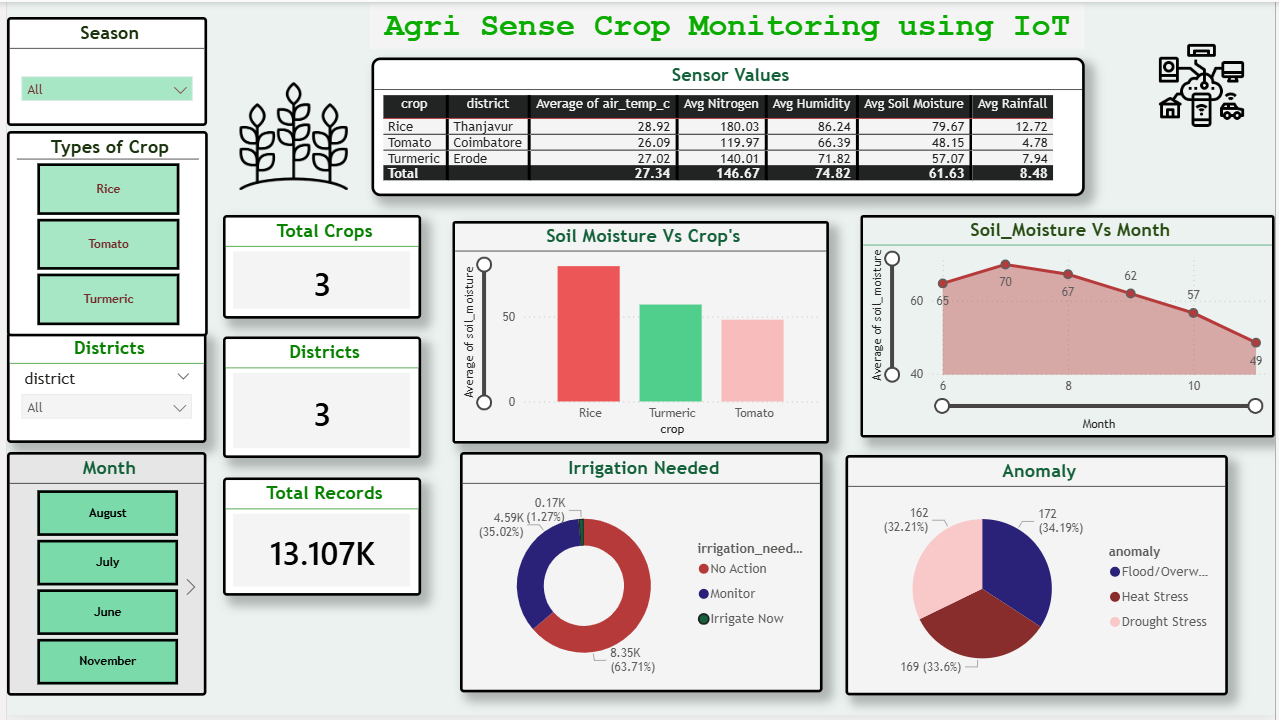

This screenshot's page, from the dashboard's own definition file:
{"tool":"powerbi","page":{"name":"Page 1","canvas":[1280,720],"ordinal":0},"visuals":[{"type":"lineChart","title":"Soil_Moisture Vs Month","fields":{"Y":["Avg(agrisense_sensor_data.soil_moisture)"],"Category":["agrisense_sensor_data.Month"]},"box":[861.2,215.3,418.3,224.5],"z":0},{"type":"clusteredColumnChart","title":"Soil Moisture Vs Crop''s","fields":{"Category":["agrisense_sensor_data.crop"],"Y":["Avg(agrisense_sensor_data.soil_moisture)"]},"box":[449.1,221.5,379.9,224.5],"z":1000},{"type":"donutChart","title":"Irrigation Needed","fields":{"Category":["agrisense_sensor_data.irrigation_needed"],"Y":["CountNonNull(agrisense_sensor_data.irrigation_needed)"]},"box":[456.7,453.7,366,243],"z":2000},{"type":"actionButton","box":[0,18.2,99.9,39.4],"z":3000},{"type":"cardVisual","title":"Total Records","fields":{"Data":["CountNonNull(agrisense_sensor_data.timestamp)"]},"box":[218.4,476.7,199.9,120],"z":4000},{"type":"slicer","title":"Districts","fields":{"Values":["agrisense_sensor_data.district"]},"box":[0,333.7,201.5,112.3],"z":5000},{"type":"slicer","title":"Types of Crop","fields":{"Values":["agrisense_sensor_data.crop"]},"box":[0,125.2,202.3,208.1],"z":6000},{"type":"tableEx","title":"Sensor Values","fields":{"Values":["agrisense_sensor_data.crop","agrisense_sensor_data.district","Avg(agrisense_sensor_data.air_temp_c)","agrisense_sensor_data.Avg Nitrogen","agrisense_sensor_data.Avg Humidity","agrisense_sensor_data.Avg Soil Moisture","agrisense_sensor_data.Avg Rainfall"]},"box":[367.5,55.4,719.7,139.9],"z":7000},{"type":"image","box":[232.2,18.5,109.2,130.7],"z":8000},{"type":"image","box":[1154.1,38.5,104,92.5],"z":9000},{"type":"slicer","title":"Month","fields":{"Values":["agrisense_sensor_data.Month Name"]},"box":[0,453.7,201.5,246.1],"z":10000},{"type":"textbox","box":[366,1.5,721.3,46.1],"z":11000},{"type":"pieChart","title":"Anomaly","fields":{"Category":["agrisense_sensor_data.anomaly"],"Y":["CountNonNull(agrisense_sensor_data.anomaly)"]},"box":[845.8,456.7,386,243],"z":12000},{"type":"slicer","title":"Season","fields":{"Values":["agrisense_sensor_data.Season"]},"box":[0,15.4,202.3,109.8],"z":13000},{"type":"cardVisual","title":"Districts ","fields":{"Data":["Count(agrisense_sensor_data.district)"]},"box":[218.4,329.1,199.9,121.5],"z":13001},{"type":"cardVisual","title":"Total Crops","fields":{"Data":["Count(agrisense_sensor_data.crop)"]},"box":[218.4,215.3,199.9,104.6],"z":13002}]}

Visuals, with their boxes in screenshot pixels (x1, y1, x2, y2), scaled from the page's 1280x720 canvas onto the 1279x720 screenshot:
"Soil_Moisture Vs Month" lineChart: rect(861, 215, 1278, 440)
"Soil Moisture Vs Crop''s" clusteredColumnChart: rect(449, 222, 828, 446)
"Irrigation Needed" donutChart: rect(456, 454, 822, 697)
actionButton: rect(0, 18, 100, 58)
"Total Records" cardVisual: rect(218, 477, 418, 597)
"Districts" slicer: rect(0, 334, 201, 446)
"Types of Crop" slicer: rect(0, 125, 202, 333)
"Sensor Values" tableEx: rect(367, 55, 1086, 195)
image: rect(232, 18, 341, 149)
image: rect(1153, 38, 1257, 131)
"Month" slicer: rect(0, 454, 201, 700)
textbox: rect(366, 2, 1086, 48)
"Anomaly" pieChart: rect(845, 457, 1231, 700)
"Season" slicer: rect(0, 15, 202, 125)
"Districts " cardVisual: rect(218, 329, 418, 451)
"Total Crops" cardVisual: rect(218, 215, 418, 320)
